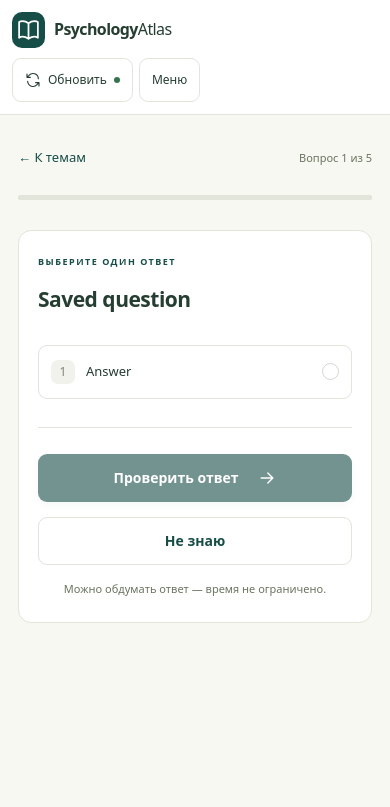
Test: keeps an unacknowledged quiz answer protected until reconciliation
The image size is (390, 807).
Click the radio button labelled "1 Answer" at (109, 371), box [38, 345, 352, 399]
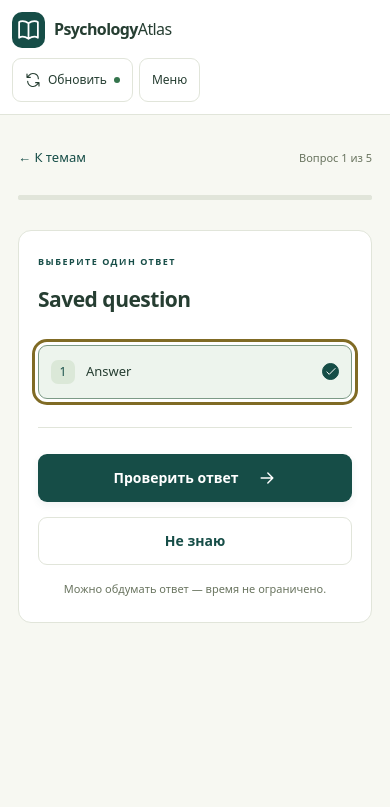
Click the button "Проверить ответ" at (195, 478), box [38, 454, 352, 502]
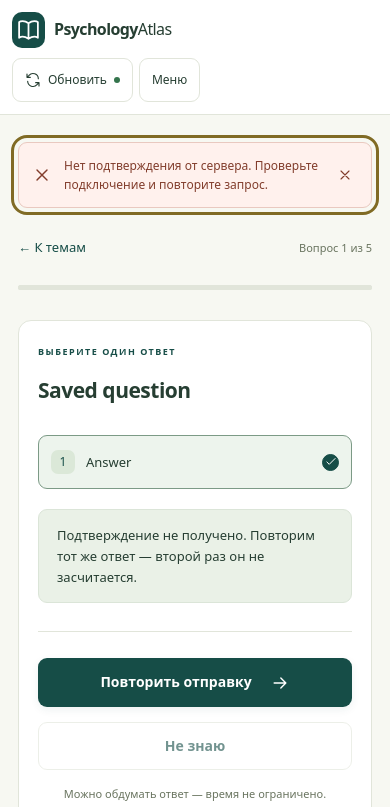
Click the button "Обновить" at (72, 80), box [12, 58, 133, 102]
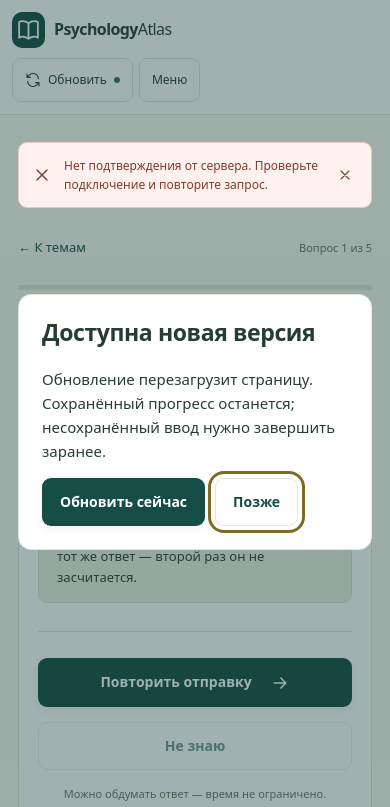
Click the button "Обновить сейчас" at (124, 502), box [42, 478, 205, 526]
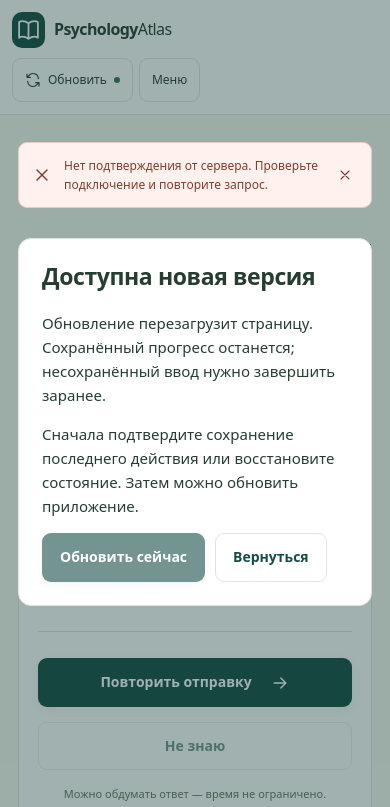
expect the text "Сначала подтвердите сохранение" is shown: met, box [42, 424, 334, 516]
